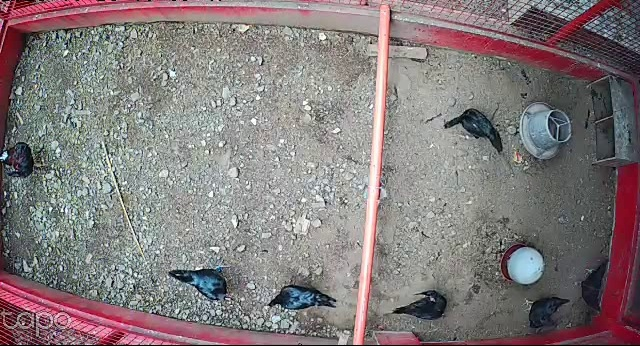Chicken: (443, 107, 506, 155), (167, 261, 235, 303), (573, 254, 612, 316), (265, 283, 338, 313), (522, 290, 571, 329), (391, 289, 451, 319)
Drinker: (497, 243, 547, 285)
Feeder: (520, 100, 573, 162)
Rooster: (1, 138, 42, 181)
